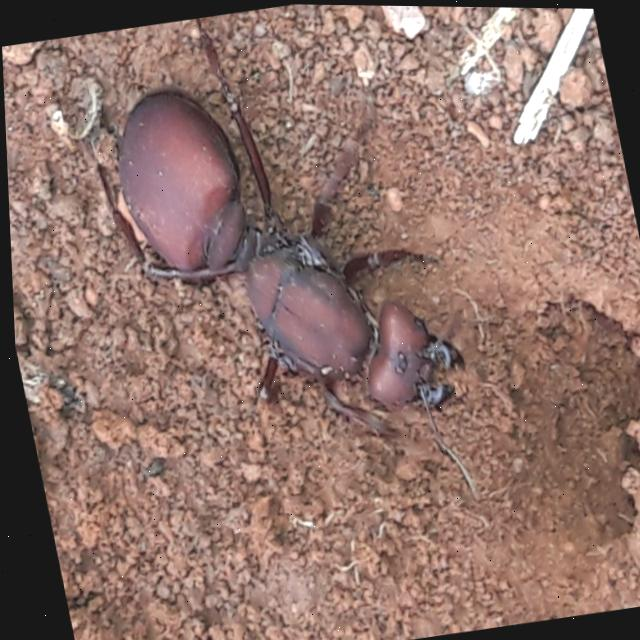Alive-Female-Dealate: (68, 1, 496, 551)
